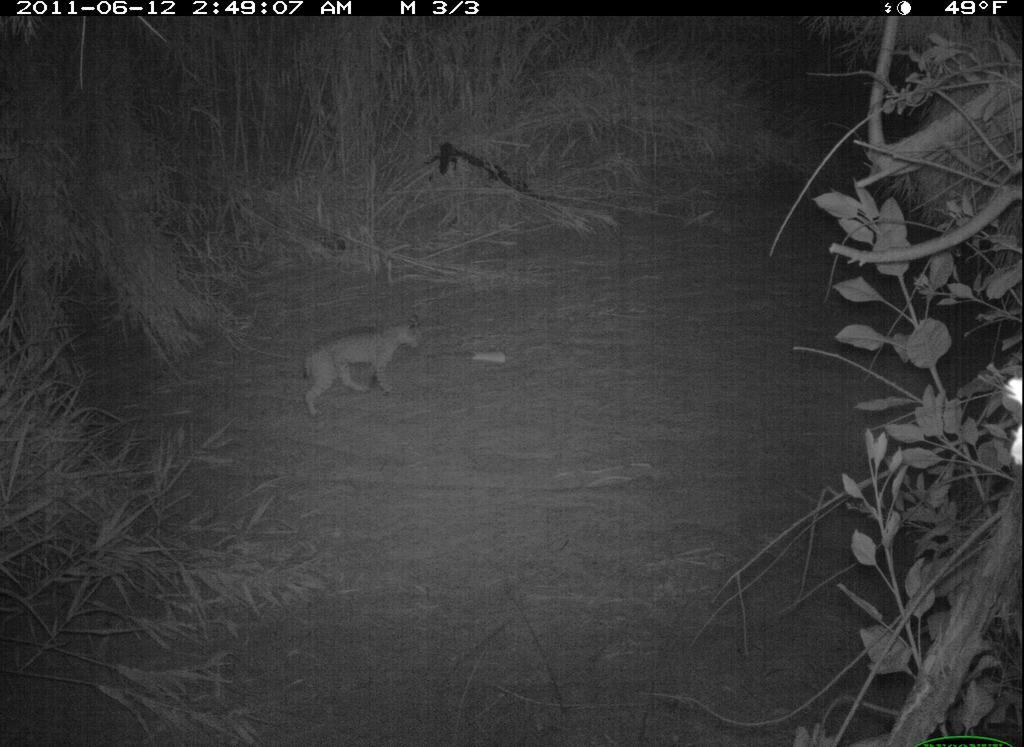bobcat: (289, 306, 433, 417)
